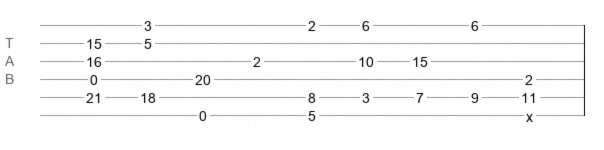0: (90, 72, 98, 82), (199, 108, 207, 118)
10: (358, 54, 374, 64)
11: (521, 90, 537, 100)
15: (86, 36, 102, 46), (412, 54, 428, 64)
16: (86, 54, 102, 64)
18: (140, 90, 156, 100)
2: (253, 54, 261, 64), (308, 18, 316, 28), (525, 72, 533, 82)
20: (195, 72, 211, 82)
21: (86, 90, 102, 100)
3: (144, 18, 152, 28), (362, 90, 370, 100)
5: (144, 36, 152, 46), (308, 108, 316, 118)
6: (362, 18, 370, 28), (471, 18, 479, 28)
7: (416, 90, 424, 100)
8: (308, 90, 316, 100)
9: (471, 90, 479, 100)
x: (526, 109, 533, 117)
